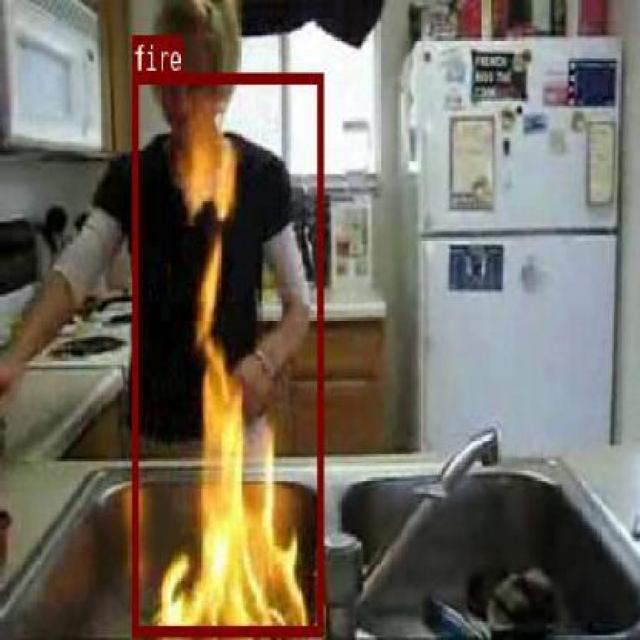Fire: (132, 71, 320, 634)
